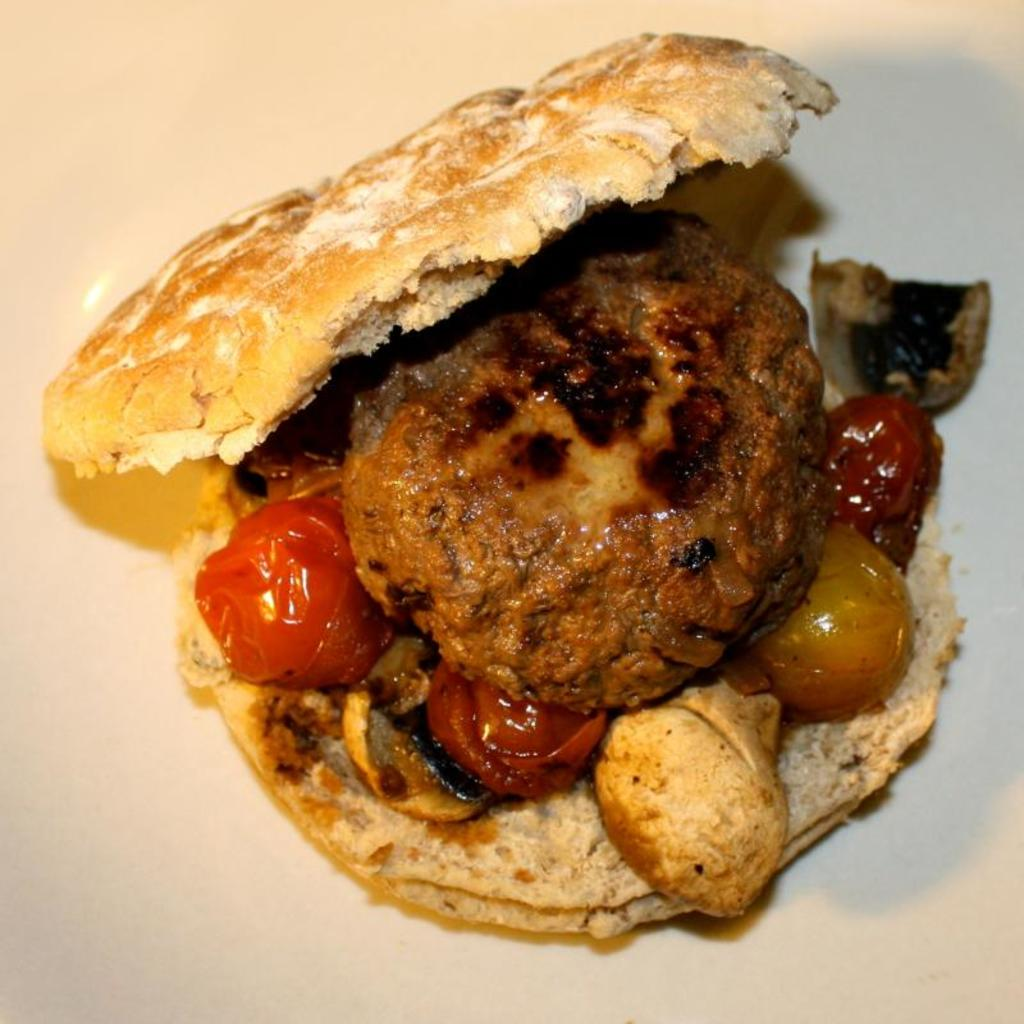Hamburger: (34, 33, 994, 940)
